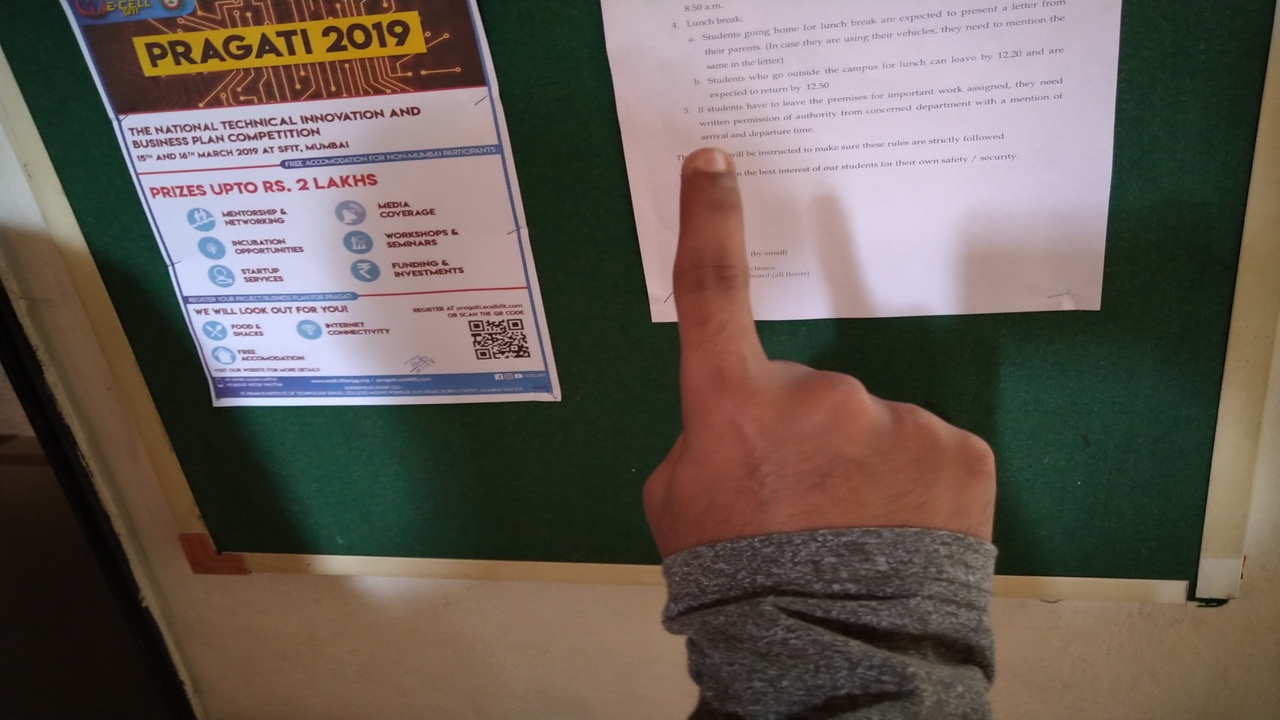fingertip: (678, 144, 744, 202)
